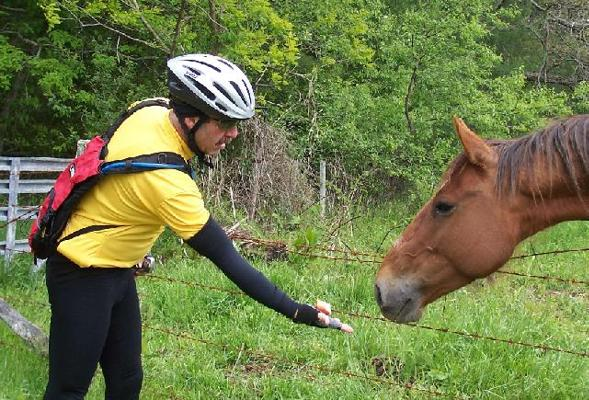person: (41, 53, 355, 399)
